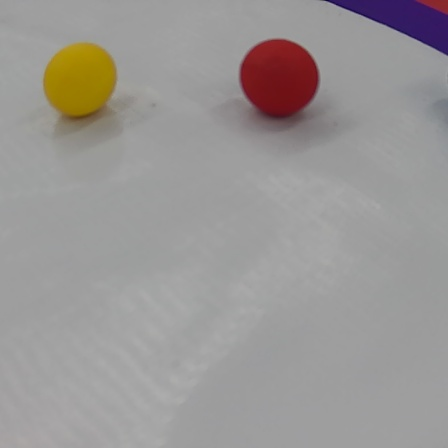red: (239, 40, 327, 120)
yellow: (42, 45, 120, 123)
